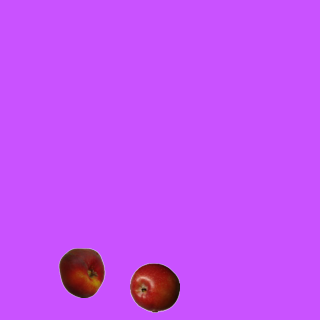Apple Braeburn: (129, 262, 179, 312)
Nectarine Flat: (56, 247, 106, 297)
